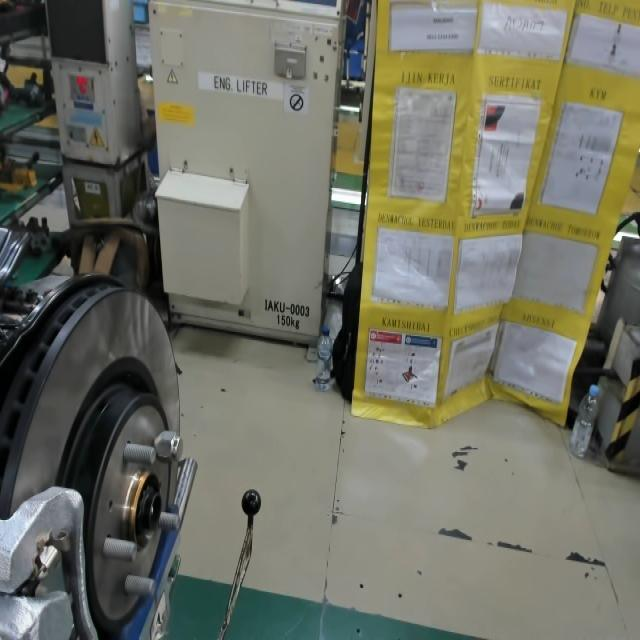Disc-HT: (58, 358, 181, 632)
